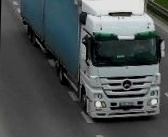truck: (17, 0, 167, 120)
